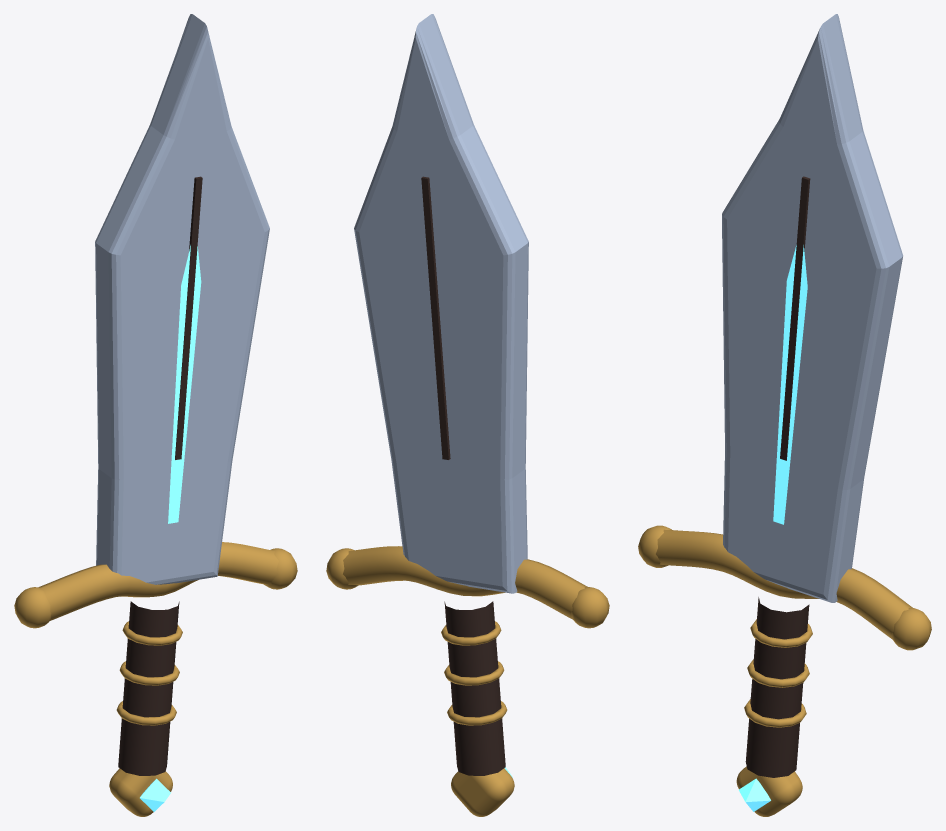
Rendered from weapon_relic.glb.
The picture shows the model from 3 angles, left to right: view 1: azimuth 30°, elevation 25°; view 2: azimuth 150°, elevation 25°; view 3: azimuth 330°, elevation 25°; orthographic projection. The views are drawn at different scales.
Visible parts, largest first — view 1: blade_mesh, weapon_grip, weapon_guard, weapon_rune, weapon_fuller_1, weapon_pommel, weapon_guard_cap_-1, weapon_guard_cap_1, weapon_trim_wrap_2, weapon_trim_wrap_0, weapon_trim_wrap_1, weapon_rune_pommel; view 2: blade_mesh, weapon_grip, weapon_guard, weapon_fuller_-1, weapon_pommel, weapon_guard_cap_-1, weapon_guard_cap_1, weapon_trim_wrap_2, weapon_trim_wrap_0, weapon_trim_wrap_1; view 3: blade_mesh, weapon_grip, weapon_guard, weapon_rune, weapon_fuller_1, weapon_pommel, weapon_guard_cap_1, weapon_guard_cap_-1, weapon_trim_wrap_0, weapon_trim_wrap_2, weapon_trim_wrap_1, weapon_rune_pommel.
Part boxes in pixels (box(x1,y1,x2,y2)): blade_mesh: box(95, 14, 269, 584); weapon_grip: box(118, 601, 179, 775); weapon_guard: box(39, 542, 278, 621); weapon_rune: box(168, 245, 201, 523); weapon_fuller_1: box(175, 176, 202, 459); weapon_pommel: box(109, 768, 172, 816); weapon_guard_cap_-1: box(14, 587, 51, 628); weapon_guard_cap_1: box(264, 548, 297, 589); weapon_trim_wrap_2: box(116, 701, 176, 725); weapon_trim_wrap_0: box(122, 621, 182, 645); weapon_trim_wrap_1: box(119, 661, 179, 685); weapon_rune_pommel: box(140, 778, 170, 811); blade_mesh: box(354, 14, 528, 593); weapon_grip: box(444, 601, 505, 775); weapon_guard: box(343, 546, 587, 619); weapon_fuller_-1: box(421, 176, 450, 459); weapon_pommel: box(451, 768, 514, 816); weapon_guard_cap_-1: box(571, 587, 609, 628); weapon_guard_cap_1: box(326, 548, 358, 589); weapon_trim_wrap_2: box(447, 701, 507, 725); weapon_trim_wrap_0: box(441, 621, 501, 645); weapon_trim_wrap_1: box(444, 661, 504, 685); blade_mesh: box(722, 14, 903, 602); weapon_grip: box(745, 597, 809, 777); weapon_guard: box(656, 529, 912, 639); weapon_rune: box(773, 245, 807, 524); weapon_fuller_1: box(780, 176, 810, 460); weapon_pommel: box(736, 766, 802, 816); weapon_guard_cap_1: box(891, 608, 931, 650); weapon_guard_cap_-1: box(638, 525, 671, 567); weapon_trim_wrap_0: box(750, 619, 812, 647); weapon_trim_wrap_2: box(744, 699, 806, 727); weapon_trim_wrap_1: box(747, 659, 809, 687); weapon_rune_pommel: box(739, 778, 770, 811).
Bounding box in the file's own units: 0.9609 × 2.58 × 0.2287.
